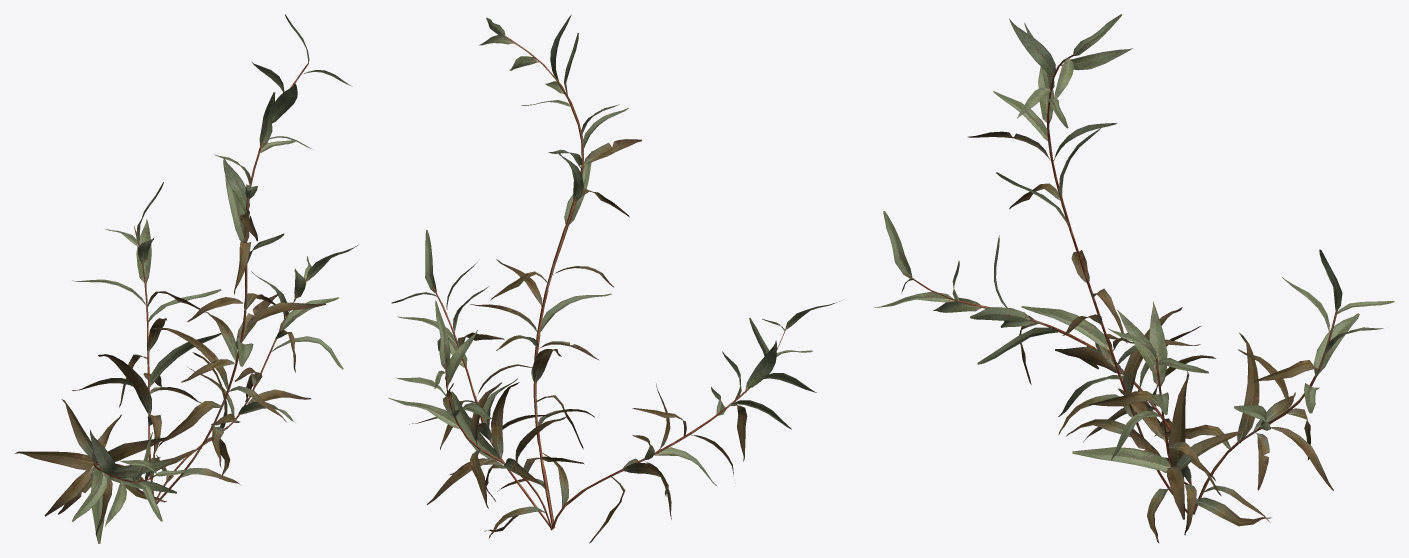
The model's file is shrub_b.glb.
3 renders of one model, left to right at view 1: azimuth 30°, elevation 25°; view 2: azimuth 150°, elevation 25°; view 3: azimuth 270°, elevation 25°, orthographic. The views are drawn at different scales.
Parts seen in each view (by area): view 1: shrub_02_b; view 2: shrub_02_b; view 3: shrub_02_b.
Part boxes in pixels (left/top/right/bottom): shrub_02_b: left=15, top=14, right=358, bottom=543; shrub_02_b: left=388, top=14, right=841, bottom=543; shrub_02_b: left=874, top=14, right=1394, bottom=543.
Size of the model in its own units: 1.11 by 1.51 by 1.28.
Materials: 1 (1 with a texture image).
